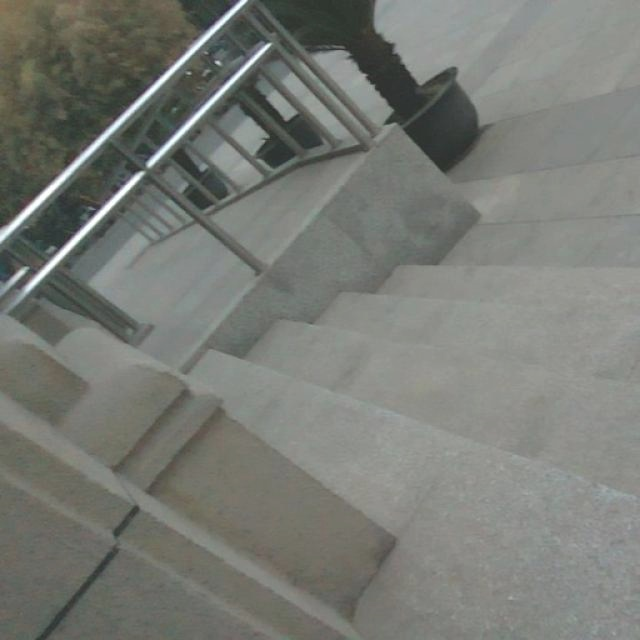stair: (274, 251, 640, 552)
